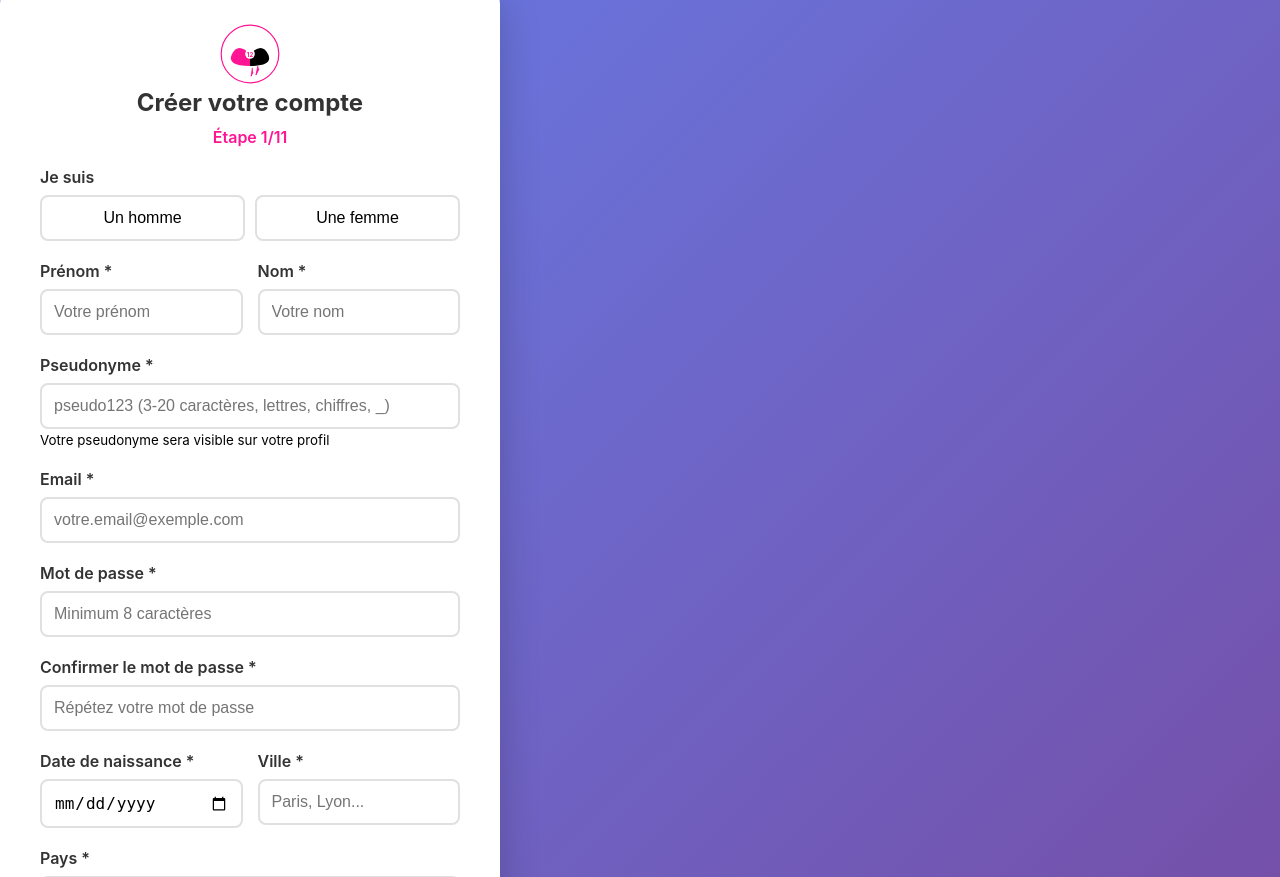
SignupForm - Pseudonym Validation › should show error for pseudonym with invalid characters
The width and height of the screenshot is (1280, 877).
Type "user name" into the field with placeholder "pseudo123 (3-20 caractères, lettres, chiffres, _)" at x=250, y=406, box [40,383,460,429]
(page scrolled)
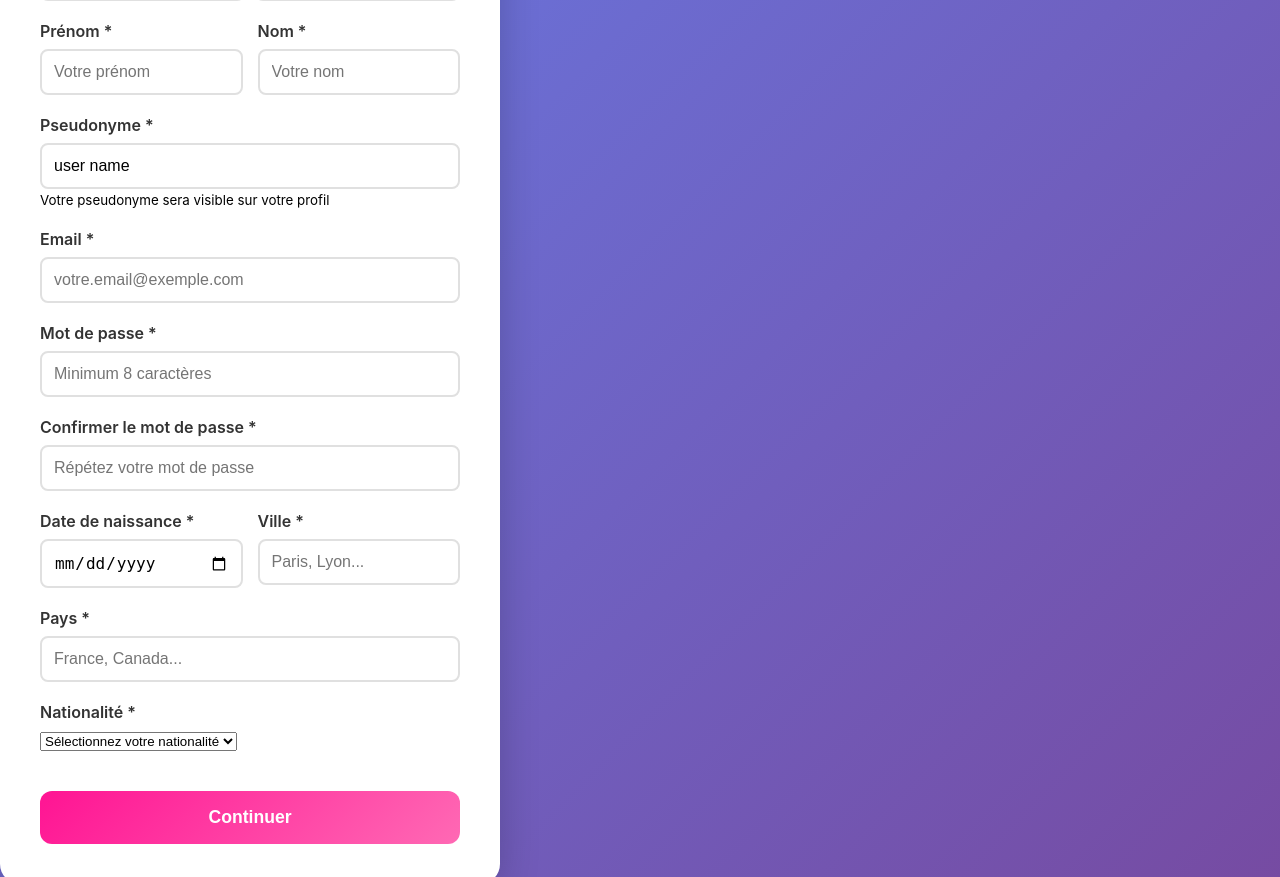
Click the button "Continuer" at x=250, y=818, box [40,791,460,844]
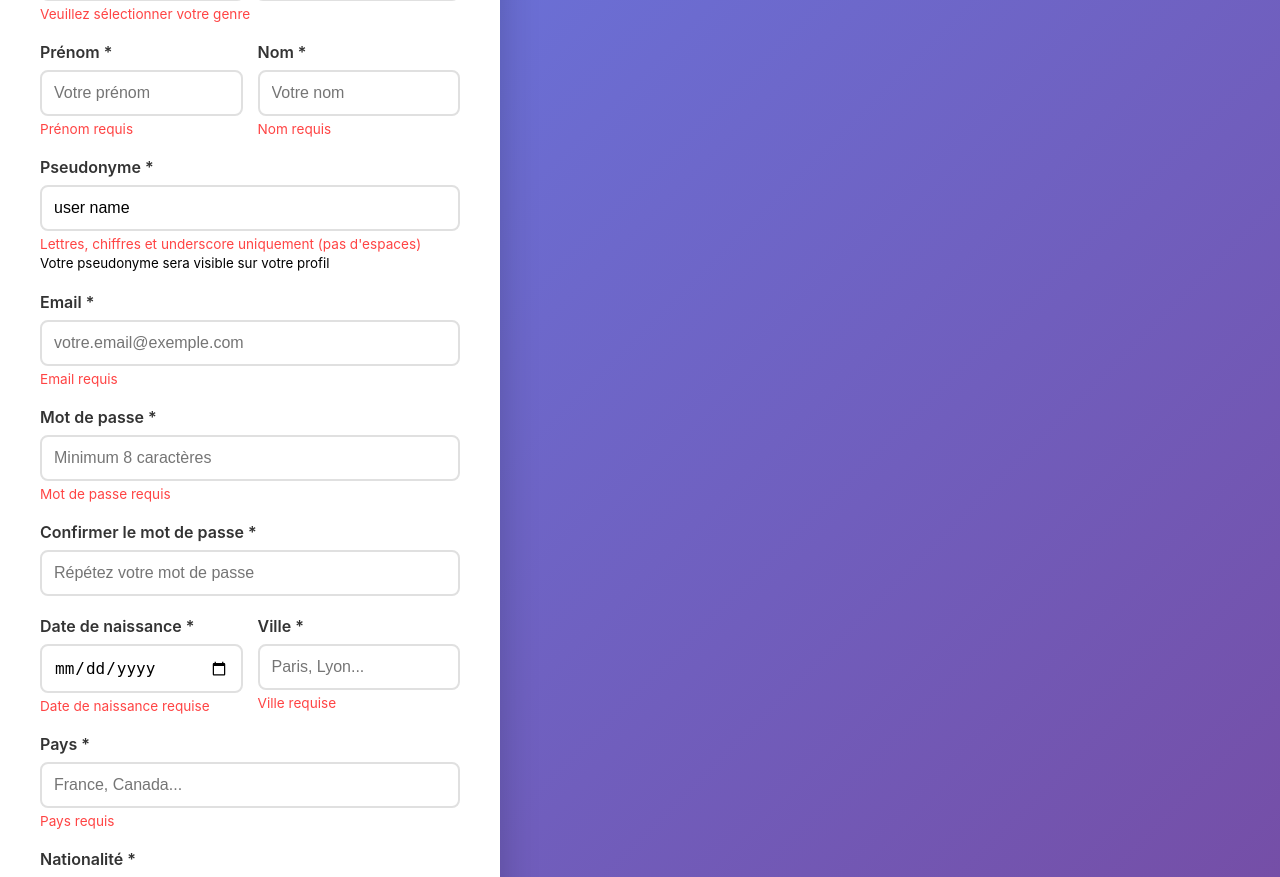
Expected: the text "Lettres, chiffres et underscore uniquement (pas d'espaces)" is shown, [40,236,460,252]
